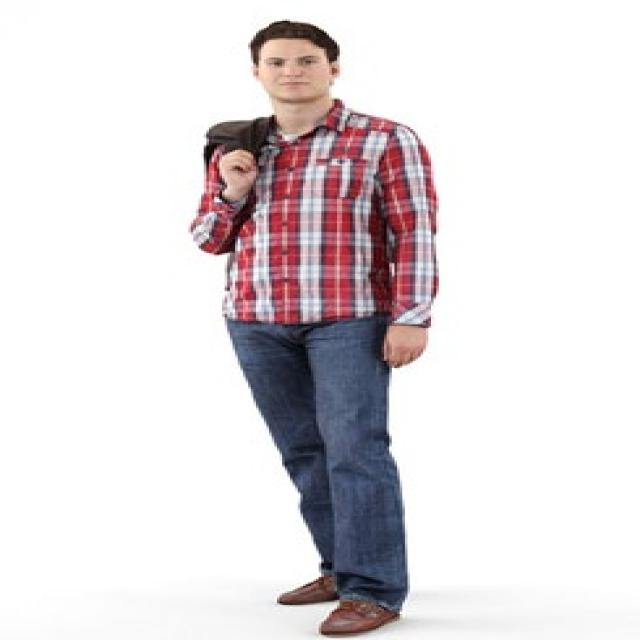standing: (186, 14, 458, 640)
